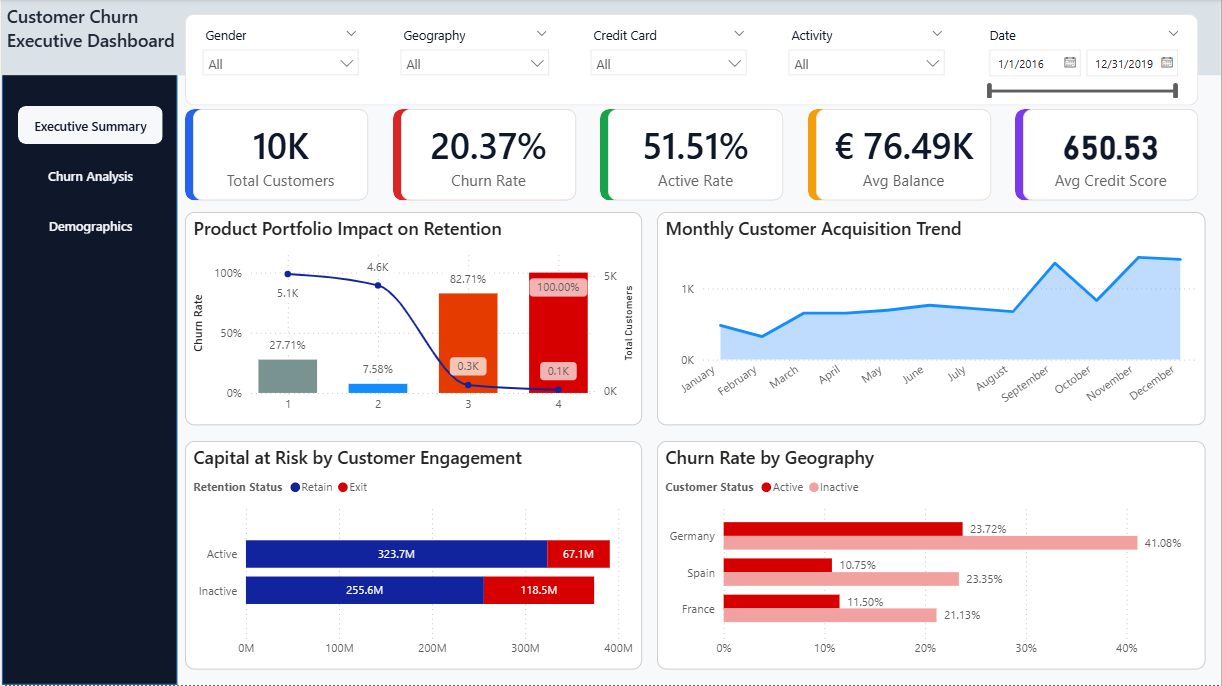

What the dashboard file says about the page in this screenshot:
{"tool":"powerbi","page":{"name":"Executive Summary","canvas":[1280,720],"ordinal":0},"visuals":[{"type":"shape","box":[0,0,184,720],"z":0},{"type":"group","id":"g1","title":"Group 1","box":[410,115,192,96],"z":0,"group":"g6"},{"type":"shape","box":[628,115,192,96],"z":0,"group":"g3"},{"type":"shape","box":[846,115,192,96],"z":0,"group":"g5"},{"type":"actionButton","box":[16.5,111.9,152,40],"z":1000},{"type":"group","id":"g2","title":"Group 2","box":[192,115,192,96],"z":1000,"group":"g6"},{"type":"shape","box":[410,115,192,96],"z":1000,"group":"g1"},{"type":"shape","box":[1064,115,192,96],"z":1000,"group":"g4"},{"type":"shape","box":[192,16,1064,96],"z":2000,"group":"g7"},{"type":"shape","box":[192,115,192,96],"z":2000,"group":"g2"},{"type":"group","id":"g3","title":"Group 3","box":[628,115,192,96],"z":2000,"group":"g6"},{"type":"actionButton","box":[16.5,217.5,152,40],"z":2000},{"type":"group","id":"g4","title":"Group 4","box":[1064,115,192,96],"z":3000,"group":"g6"},{"type":"actionButton","box":[16.5,164.7,152,40],"z":3000},{"type":"slicer","fields":{"Values":["Geography.GeographyLocation"]},"box":[408,24,176,80],"z":4000,"group":"g7"},{"type":"group","id":"g5","title":"Group 5","box":[846,115,192,96],"z":4000,"group":"g6"},{"type":"slicer","fields":{"Values":["Gender.GenderCategory"]},"box":[200,24,184,80],"z":6000,"group":"g7"},{"type":"slicer","fields":{"Values":["CreditCard.Category"]},"box":[608,24,184,80],"z":7000,"group":"g7"},{"type":"clusteredBarChart","title":"Churn Rate by Geography","fields":{"Category":["Geography.GeographyLocation"],"Y":["Bank_Churn.Churn Rate"],"Series":["ActiveCustomer.Customer Status"]},"box":[688,464,576,240],"z":7000},{"type":"card","fields":{"Values":["Bank_Churn.Total Customers"]},"box":[200,115,184,96],"z":8000,"group":"g2"},{"type":"areaChart","title":"Monthly Customer Acquisition Trend","fields":{"Category":["Bank_Churn.Bank DOJ.Variation.Date Hierarchy.Month"],"Y":["Bank_Churn.Total Customers"]},"box":[688,224,576,224],"z":8000},{"type":"slicer","fields":{"Values":["ActiveCustomer.ActiveCategory"]},"box":[816,24,184,80],"z":9000,"group":"g7"},{"type":"group","id":"g6","title":"Group 7","box":[192,115,1072,96],"z":9000},{"type":"slicer","fields":{"Values":["Bank_Churn.Bank DOJ"]},"box":[1024,24,224,80],"z":10000,"group":"g7"},{"type":"barChart","title":"Capital at Risk by Customer Engagement","fields":{"Category":["ActiveCustomer.Customer Status"],"Y":["Bank_Churn.Total Balance"],"Series":["ExitCustomer.ExitCategory"]},"box":[192,464,480,240],"z":10000},{"type":"card","fields":{"Values":["Bank_Churn.Avg Credit Score"]},"box":[1072,115,184,96],"z":11000,"group":"g4"},{"type":"lineClusteredColumnComboChart","title":"Product Portfolio Impact on Retention","fields":{"Category":["Bank_Churn.NumOfProducts"],"Y":["Bank_Churn.Churn Rate"],"Y2":["Bank_Churn.Total Customers"]},"box":[192,224,480,224],"z":11000},{"type":"shape","box":[184,0,1096,80],"z":12000},{"type":"card","fields":{"Values":["Bank_Churn.Churn Rate"]},"box":[418,115,184,96],"z":12000,"group":"g1"},{"type":"card","fields":{"Values":["Bank_Churn.Avg Balance"]},"box":[854,115,184,96],"z":12000,"group":"g5"},{"type":"textbox","box":[0,0,224,80],"z":13000},{"type":"group","id":"g7","title":"Group 6","box":[192,16,1072,96],"z":14000},{"type":"card","fields":{"Values":["Bank_Churn.Active Rate"]},"box":[636,115,184,96],"z":14000,"group":"g3"}]}

Visuals, with their boxes in screenshot pixels (x1, y1, x2, y2), scaled from the page's 1280x720 canvas onto the 1222x686 screenshot:
shape: (left=0, top=0, right=176, bottom=685)
"Group 1" group: (left=391, top=110, right=575, bottom=201)
shape: (left=600, top=110, right=783, bottom=201)
shape: (left=808, top=110, right=991, bottom=201)
actionButton: (left=16, top=107, right=161, bottom=145)
"Group 2" group: (left=183, top=110, right=367, bottom=201)
shape: (left=391, top=110, right=575, bottom=201)
shape: (left=1016, top=110, right=1199, bottom=201)
shape: (left=183, top=15, right=1199, bottom=107)
shape: (left=183, top=110, right=367, bottom=201)
"Group 3" group: (left=600, top=110, right=783, bottom=201)
actionButton: (left=16, top=207, right=161, bottom=245)
"Group 4" group: (left=1016, top=110, right=1199, bottom=201)
actionButton: (left=16, top=157, right=161, bottom=195)
slicer - Geography.GeographyLocation: (left=390, top=23, right=558, bottom=99)
"Group 5" group: (left=808, top=110, right=991, bottom=201)
slicer - Gender.GenderCategory: (left=191, top=23, right=367, bottom=99)
slicer - CreditCard.Category: (left=580, top=23, right=756, bottom=99)
"Churn Rate by Geography" clusteredBarChart: (left=657, top=442, right=1207, bottom=671)
card - Bank_Churn.Total Customers: (left=191, top=110, right=367, bottom=201)
"Monthly Customer Acquisition Trend" areaChart: (left=657, top=213, right=1207, bottom=427)
slicer - ActiveCustomer.ActiveCategory: (left=779, top=23, right=955, bottom=99)
"Group 7" group: (left=183, top=110, right=1207, bottom=201)
slicer - Bank_Churn.Bank DOJ: (left=978, top=23, right=1191, bottom=99)
"Capital at Risk by Customer Engagement" barChart: (left=183, top=442, right=642, bottom=671)
card - Bank_Churn.Avg Credit Score: (left=1023, top=110, right=1199, bottom=201)
"Product Portfolio Impact on Retention" lineClusteredColumnComboChart: (left=183, top=213, right=642, bottom=427)
shape: (left=176, top=0, right=1221, bottom=76)
card - Bank_Churn.Churn Rate: (left=399, top=110, right=575, bottom=201)
card - Bank_Churn.Avg Balance: (left=815, top=110, right=991, bottom=201)
textbox: (left=0, top=0, right=214, bottom=76)
"Group 6" group: (left=183, top=15, right=1207, bottom=107)
card - Bank_Churn.Active Rate: (left=607, top=110, right=783, bottom=201)
